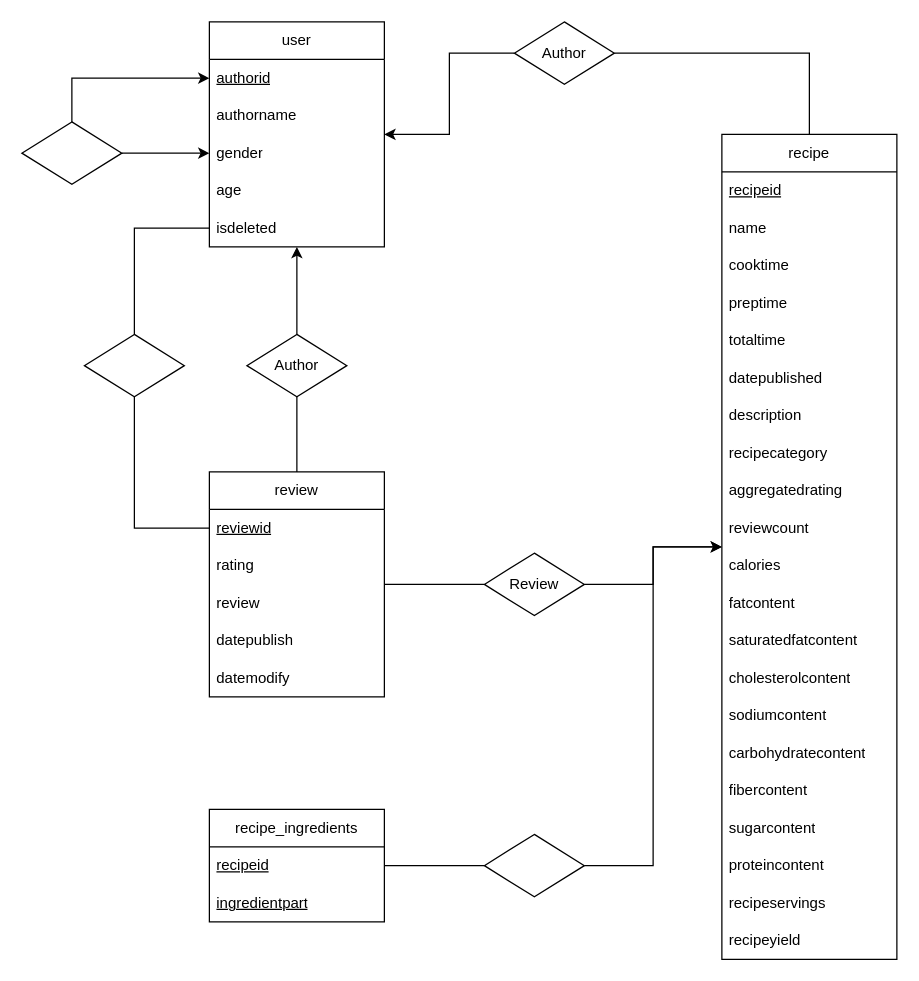
Some shapes in this 919 by 981 pixel diagram are drawn without their labels. The centre of each missing label's shape, as x and y in pixels:
"Follow" belongs at point 71,152.
"Include" belongs at point 533,865.
"Like" belongs at point 133,365.
